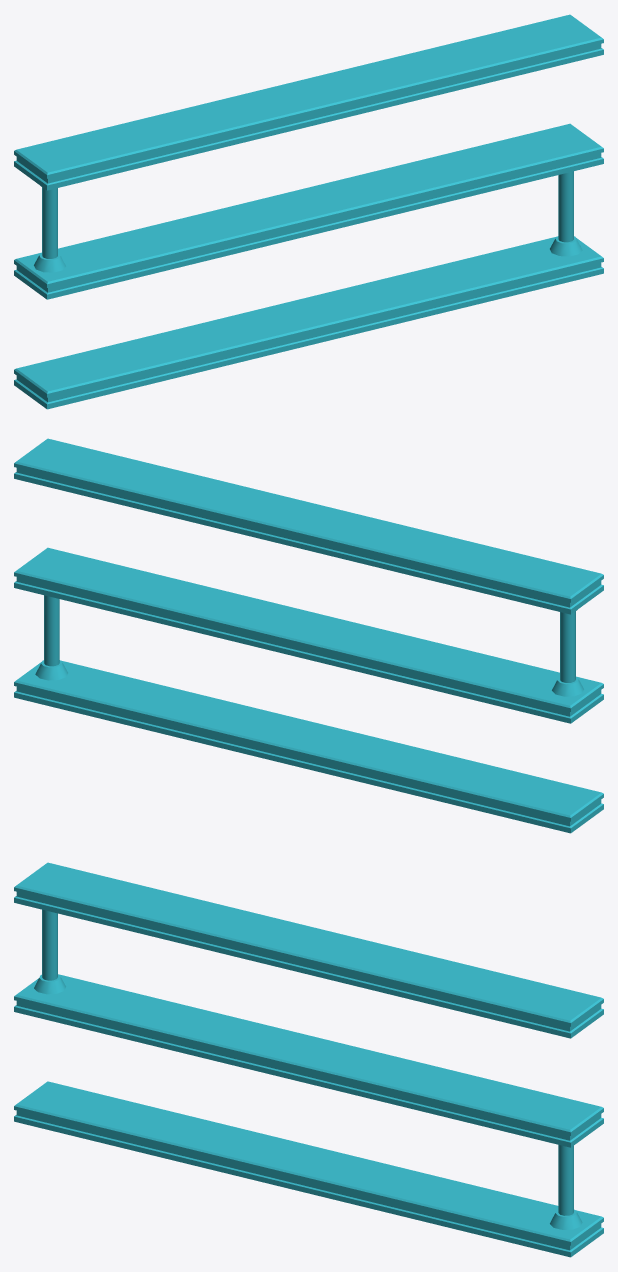
The model's file is EstanteriaFbx.fbx.
3 views of the same model, one above another, from view 1: azimuth 30°, elevation 25°; view 2: azimuth 150°, elevation 25°; view 3: azimuth 330°, elevation 25° (orthographic).
Parts seen in each view (by area): view 1: Estanteria_geo; view 2: Estanteria_geo; view 3: Estanteria_geo.
Boxes of the visible parts, x1,y1,x2,y2 form: Estanteria_geo: (14,14,603,409); Estanteria_geo: (14,438,603,833); Estanteria_geo: (14,862,603,1257).
Bounding box in the file's own units: 5.14 × 2.08 × 0.53.
